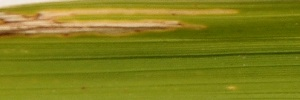RiceBacterialBlight: (1, 3, 243, 37)
